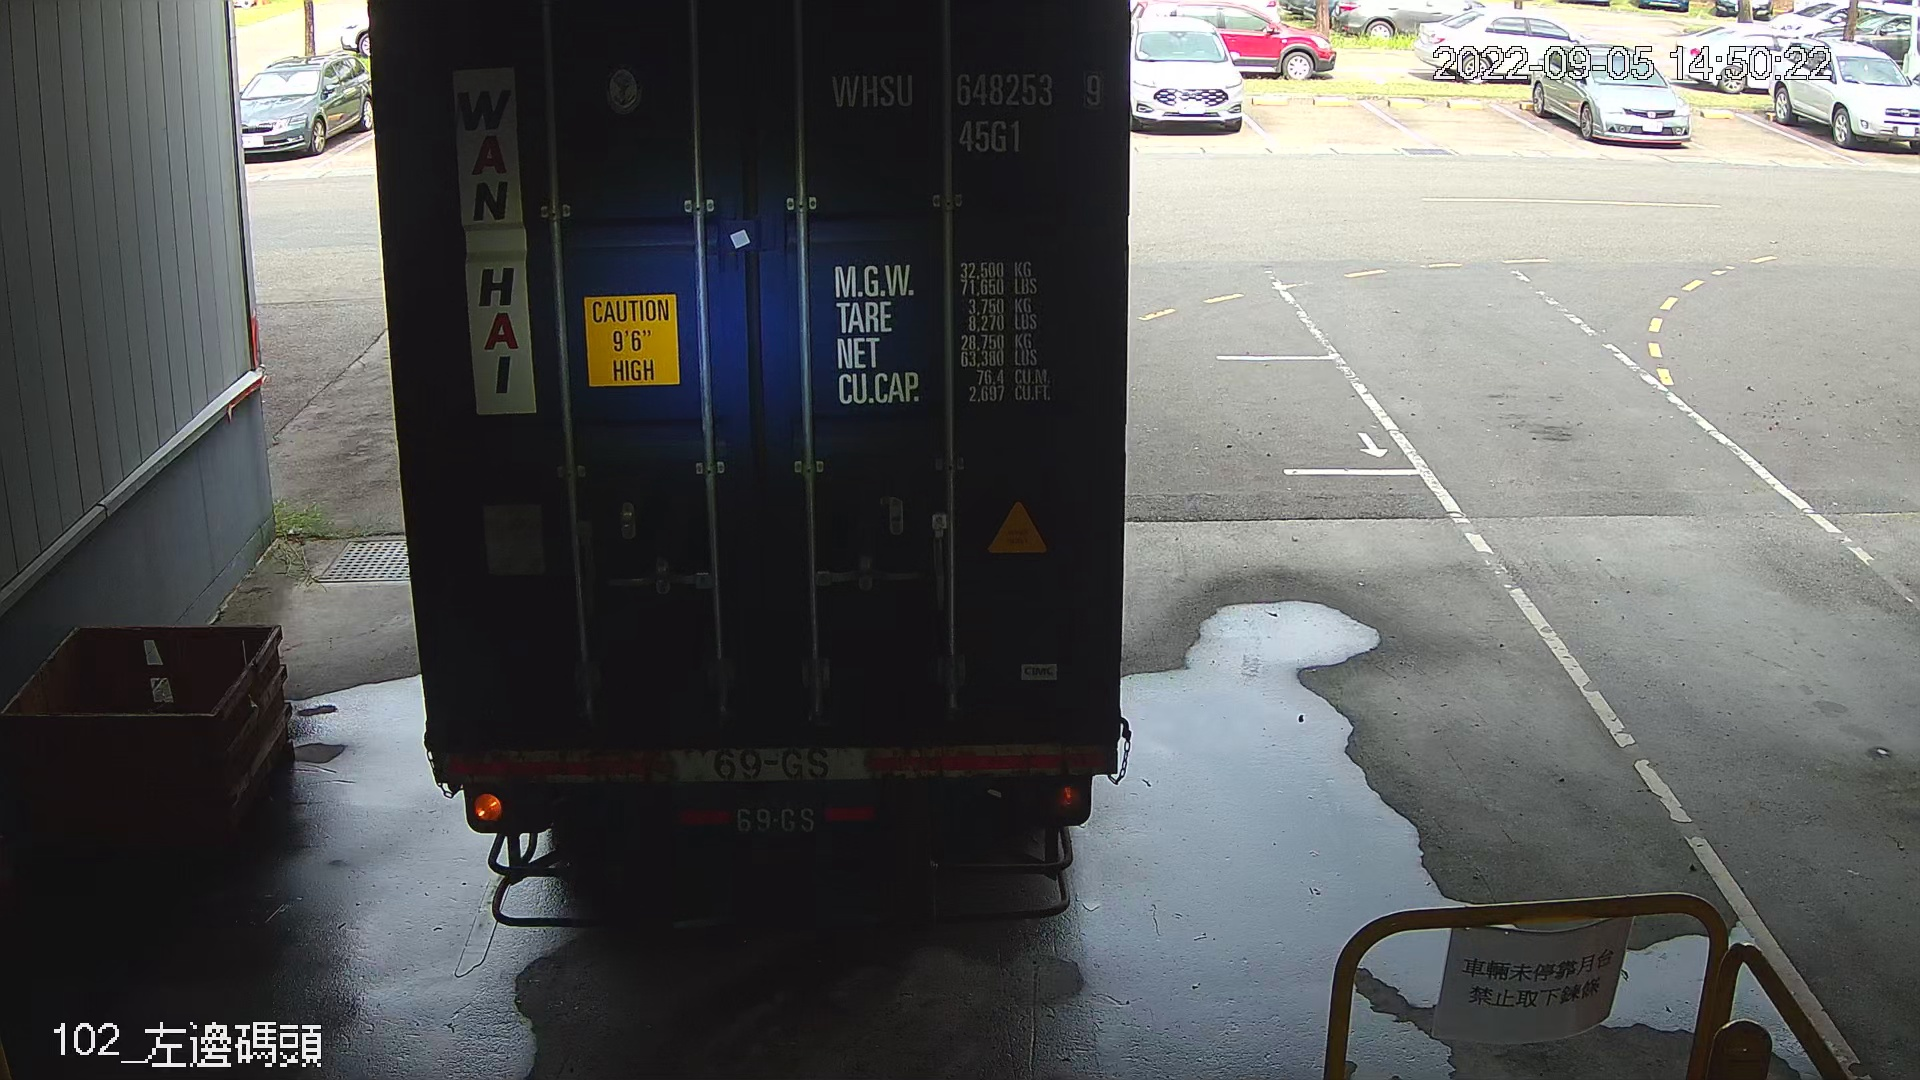container: (820, 57, 1114, 164)
